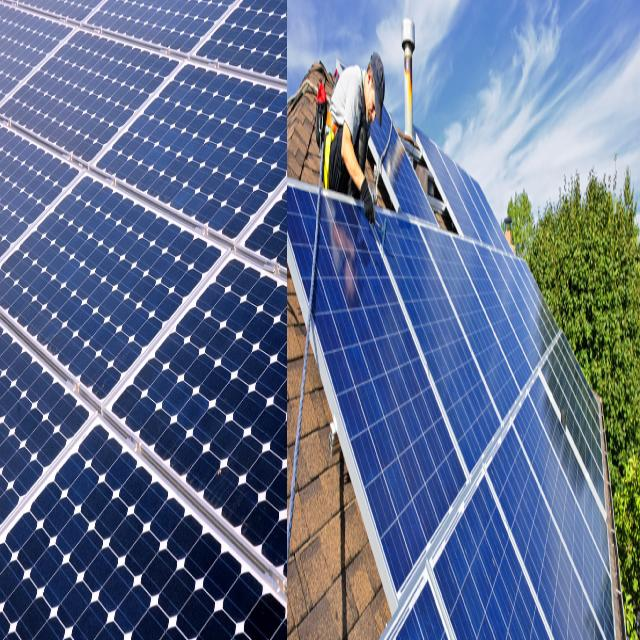clean-solar-panel: (1, 0, 289, 636), (310, 192, 621, 640)
